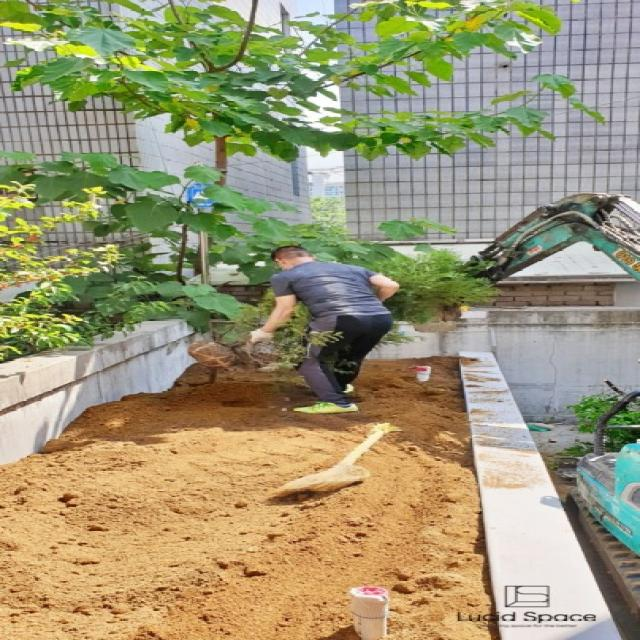excavator: (412, 193, 640, 619)
plant: (0, 0, 607, 371)
